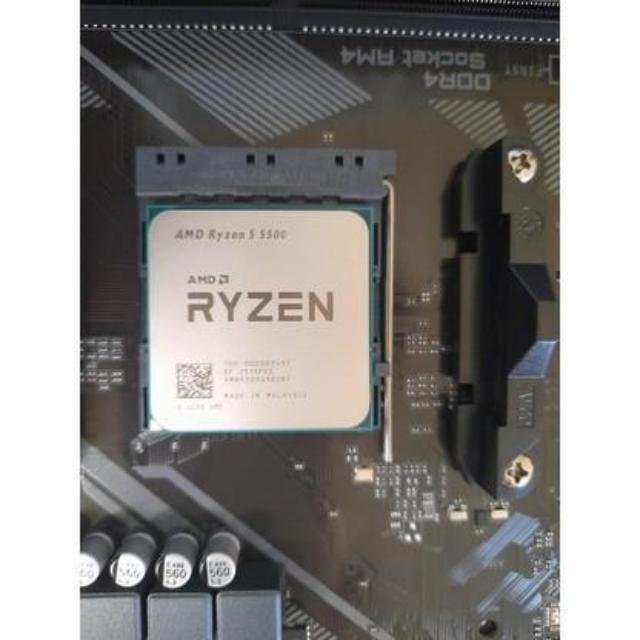CPU: (143, 206, 374, 434)
